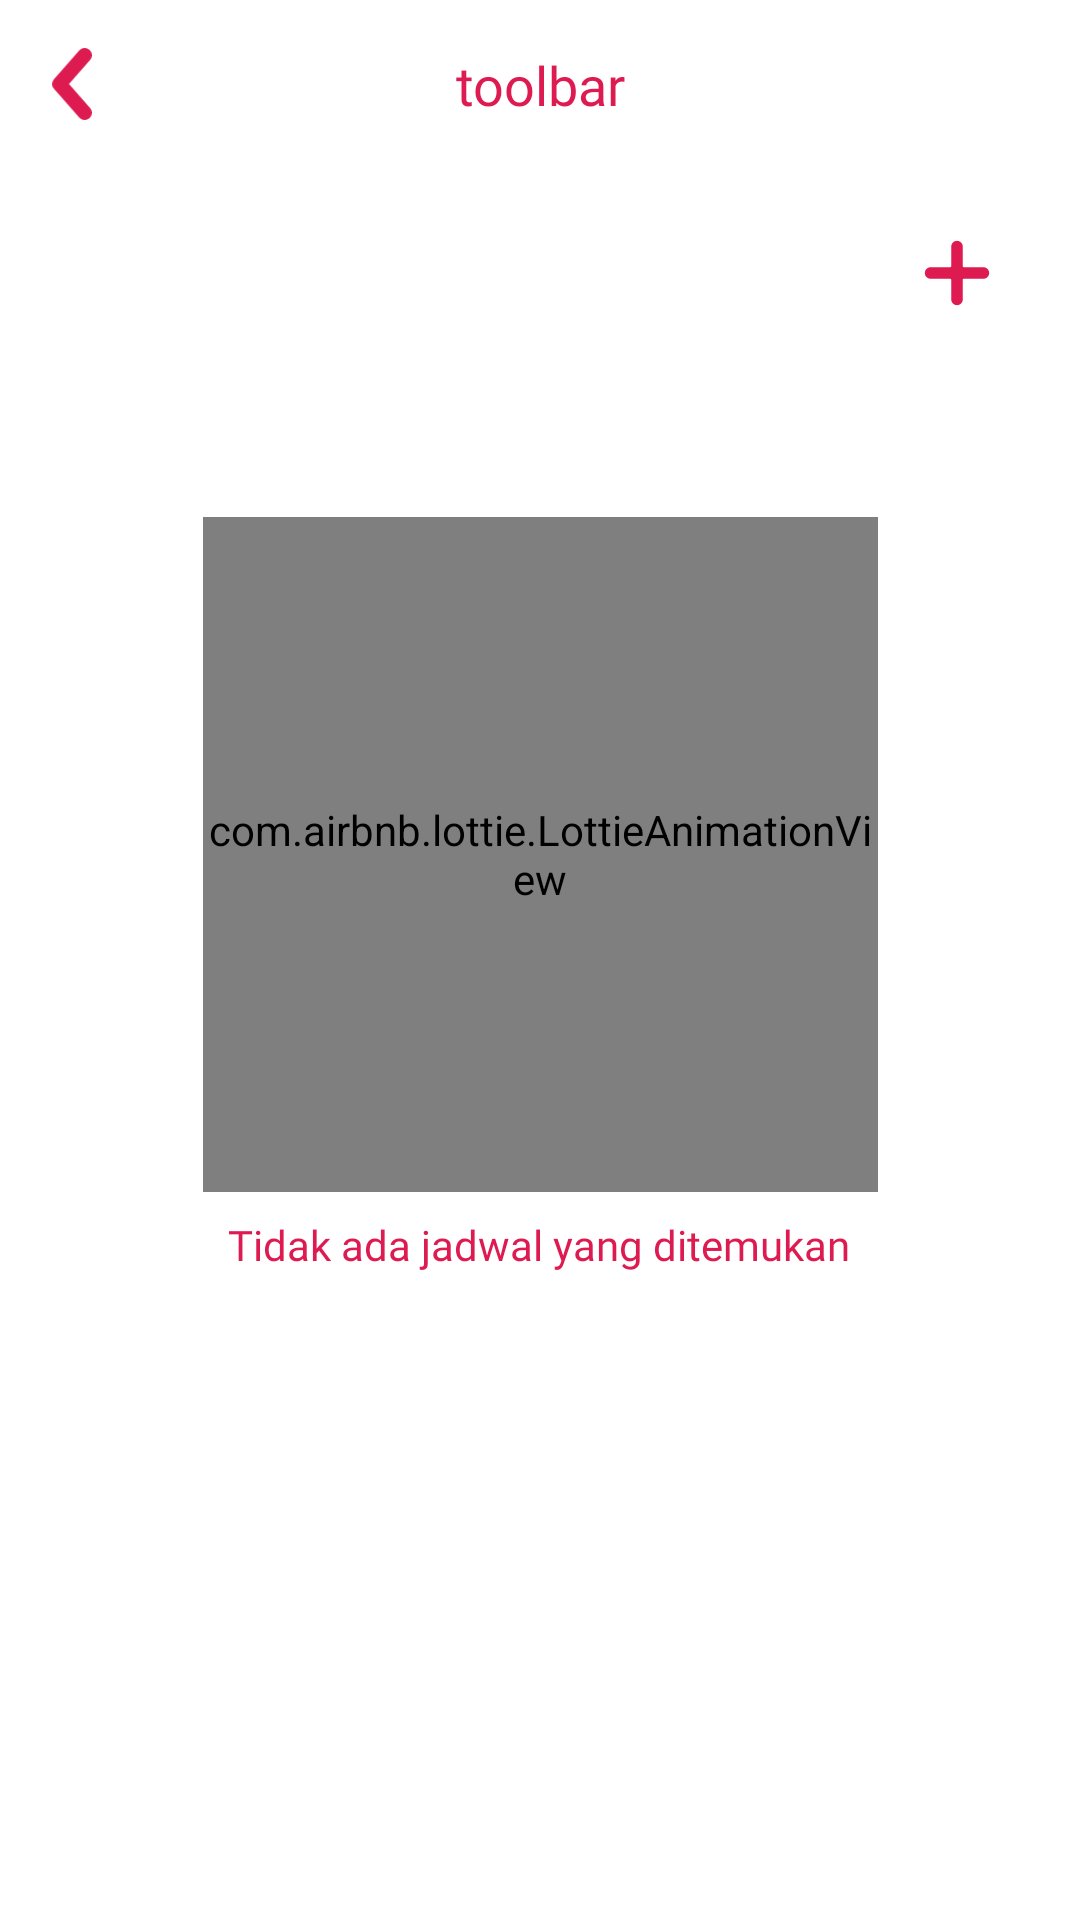

Where to tap for icons on this 1080px×1920px app screen, as [x,y]:
arrow: [72,84]
plus: [957,273]
